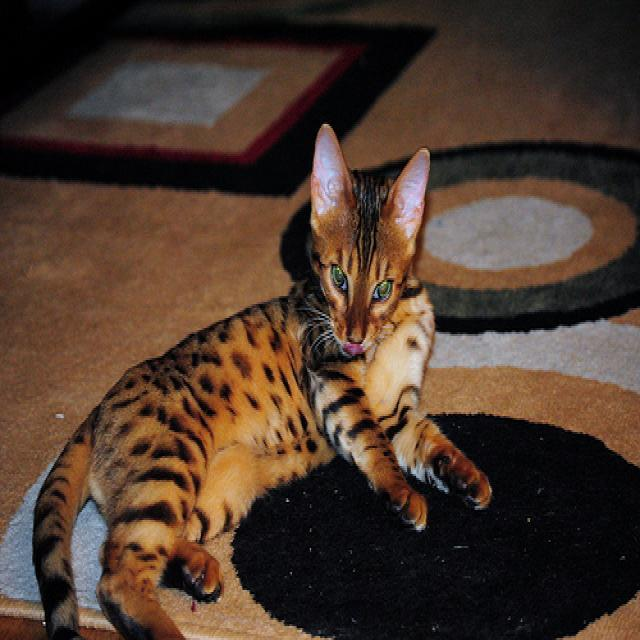Bengal: (309, 120, 428, 356)
